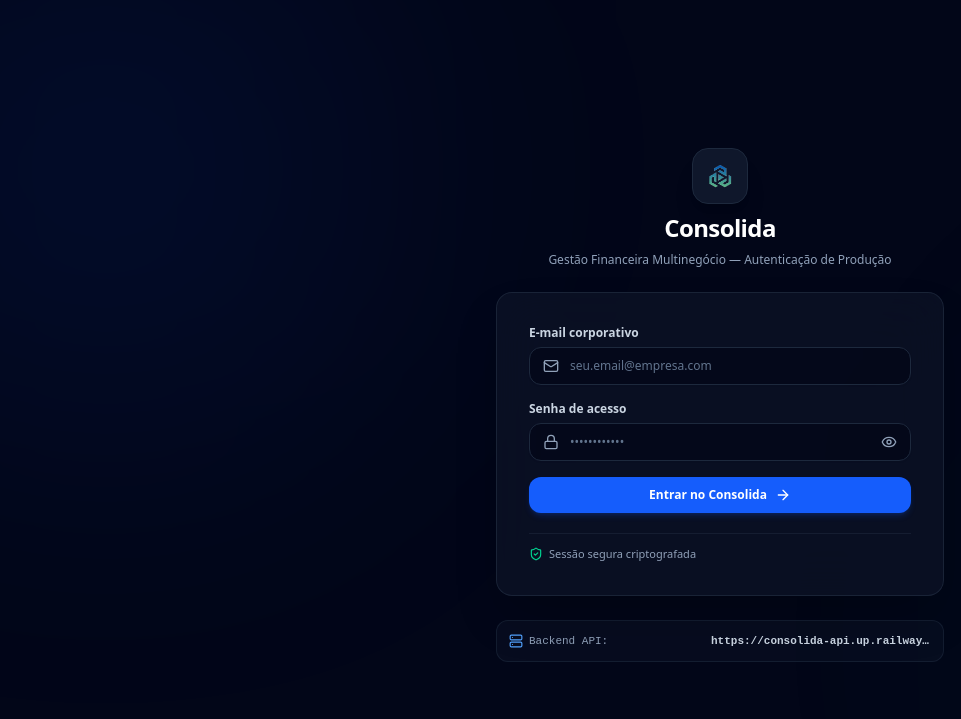
Test: Módulo de Autenticação e Sessão (SCRUM-12) › deve exibir mensagem de conta bloqueada informando tempo restante
Step 1. Type "bloqueado@empresa.com" into the field with placeholder "seu.email@empresa.com" → (720, 366), box [529,347,911,385]
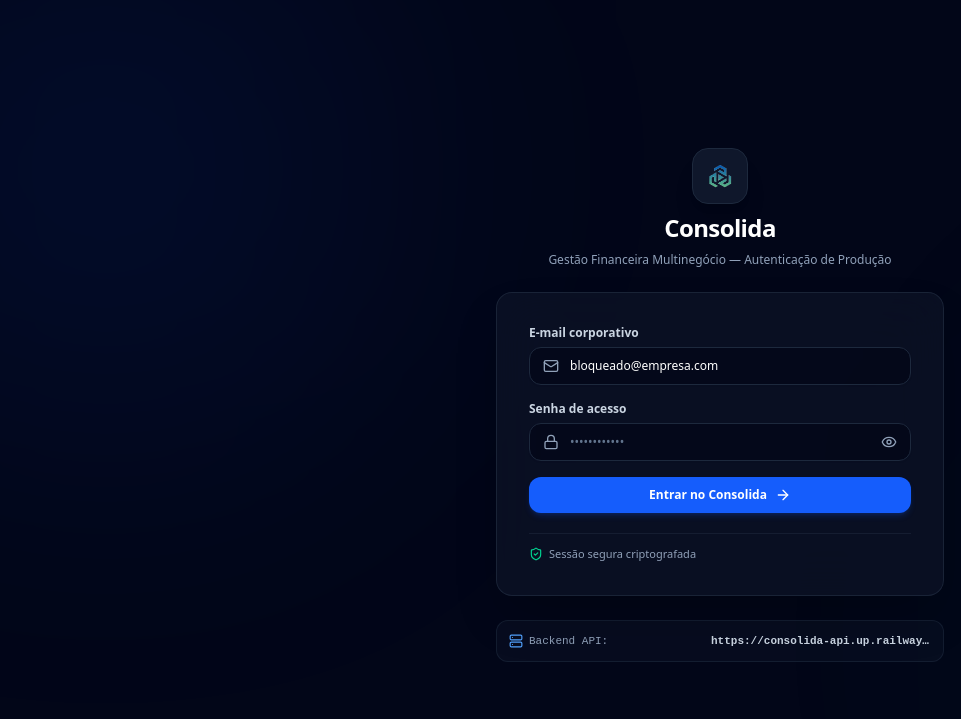
Step 2. Type "qualquer" into the password field with placeholder "••••••••••••" → (720, 442), box [529,423,911,461]
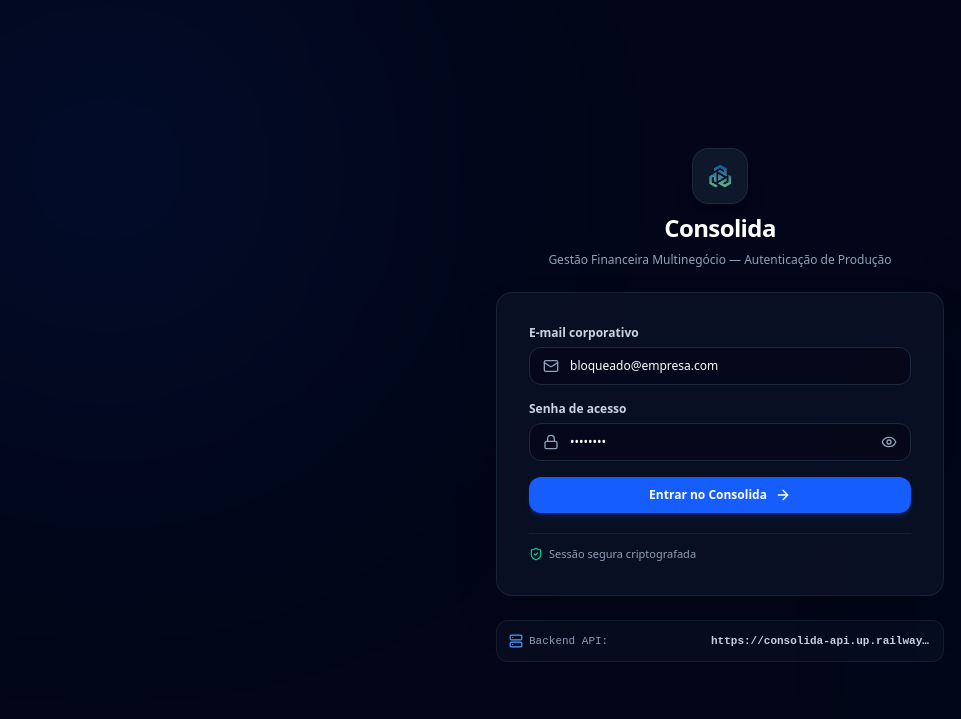
Step 3. Click the button "Entrar no Consolida" → (720, 495), box [529,477,911,513]
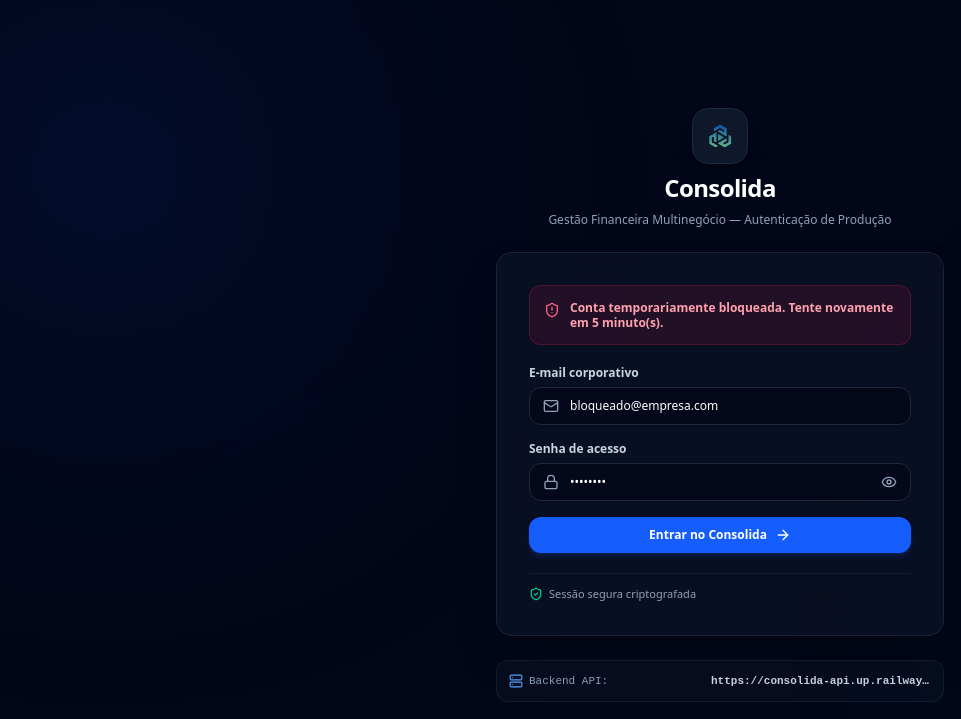
Now the text "Conta temporariamente bloqueada. Tente novamente em 5 minuto(s)." is shown, box [570,300,896,330]
